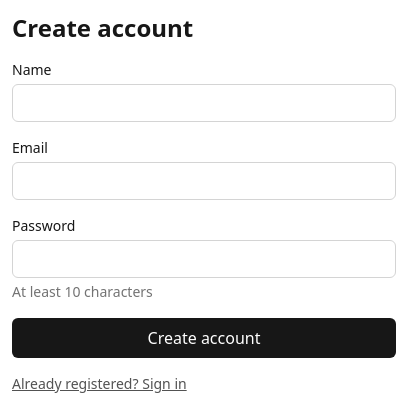
it: AuthForm › shows field-level validation errors on register
Type "Ada" into the field labelled "Name" at point(204, 103), box top-left (12, 84), bottom-right (396, 122)
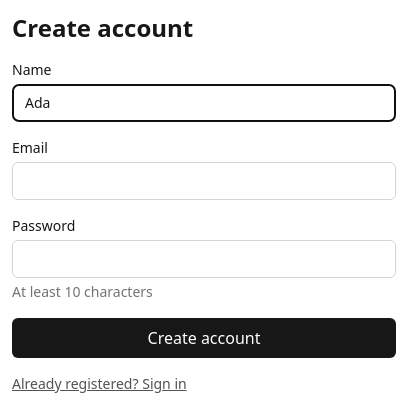
Type "ada@example.com" into the field labelled "Email" at point(204, 181), box top-left (12, 162), bottom-right (396, 200)
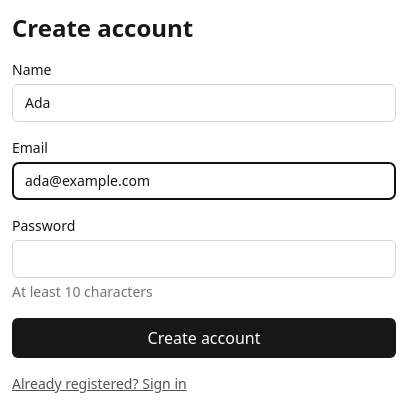
Type "short" into the password field labelled "Password" at point(204, 259), box top-left (12, 240), bottom-right (396, 278)
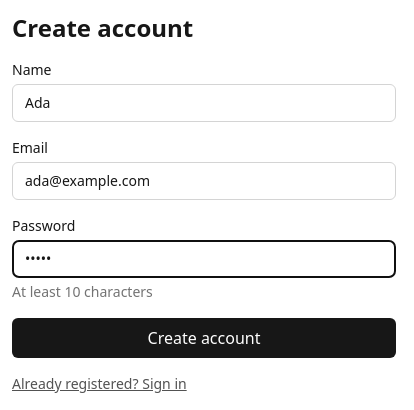
Click the button "Create account" at point(204, 338), box top-left (12, 318), bottom-right (396, 358)
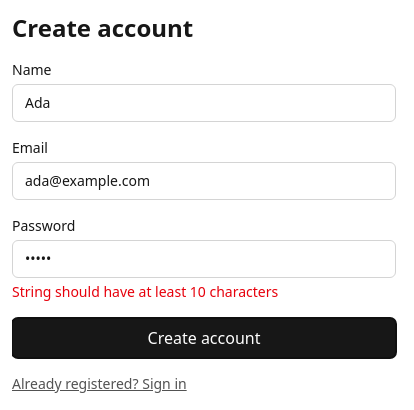
Expected: the text "String should have at least 10 characters" is shown, top-left (12, 282), bottom-right (278, 301)
